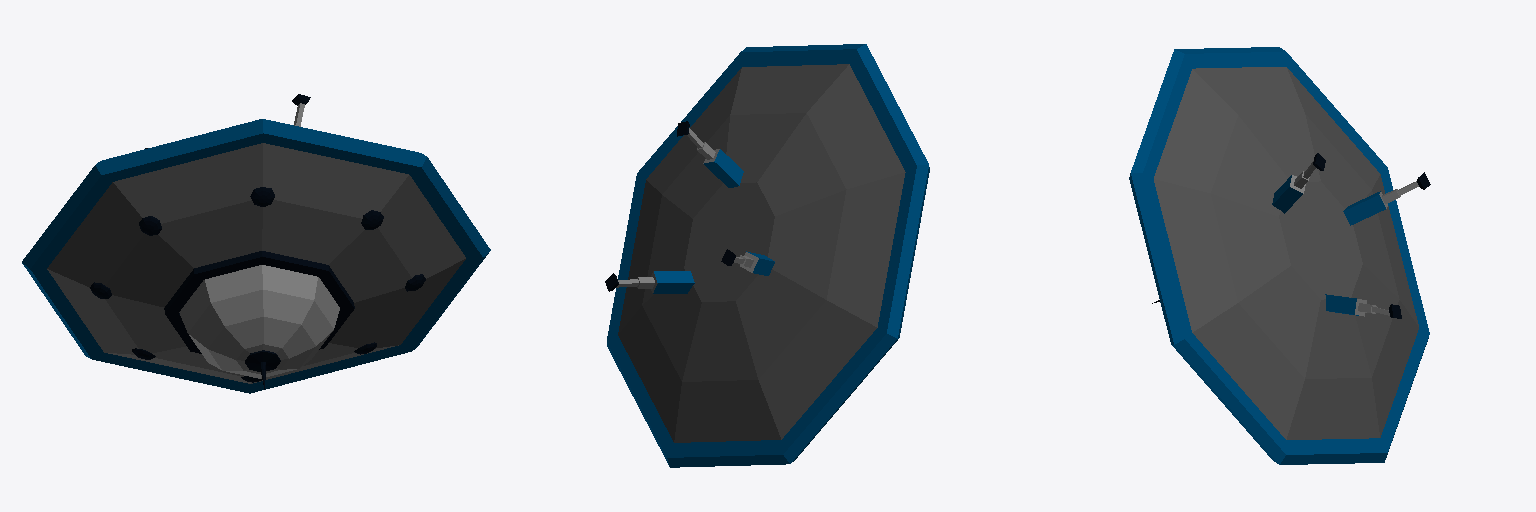
The picture shows the model from 3 angles: view 1: azimuth 30°, elevation 25°; view 2: azimuth 150°, elevation 25°; view 3: azimuth 270°, elevation 25°; orthographic projection.
Parts seen in each view (by area): view 1: flying_sacuer; view 2: flying_sacuer; view 3: flying_sacuer.
Boxes of the visible parts, x1=… form: flying_sacuer: x1=22, y1=94, x2=490, y2=393; flying_sacuer: x1=605, y1=44, x2=929, y2=467; flying_sacuer: x1=1129, y1=47, x2=1430, y2=464.
Size of the model in its own units: 1.01 by 0.9738 by 0.7217.